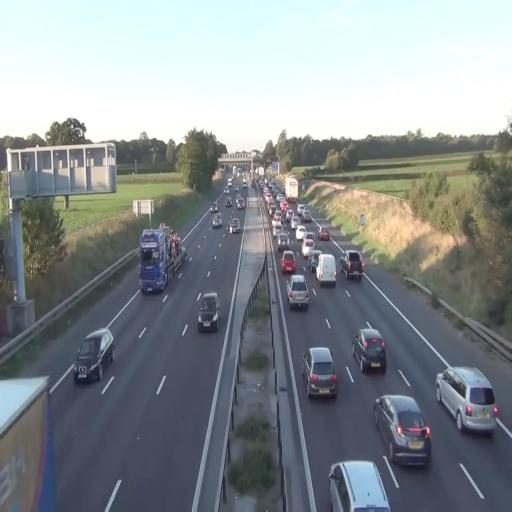vehicle: (372, 393, 432, 468), (435, 366, 499, 435), (328, 458, 392, 512), (74, 327, 115, 383), (138, 229, 170, 297), (138, 228, 170, 296), (305, 346, 338, 399), (353, 326, 387, 374), (197, 292, 220, 332), (287, 274, 311, 311), (316, 254, 337, 286), (344, 249, 364, 281), (281, 250, 296, 276), (228, 216, 240, 234), (211, 210, 222, 228)
